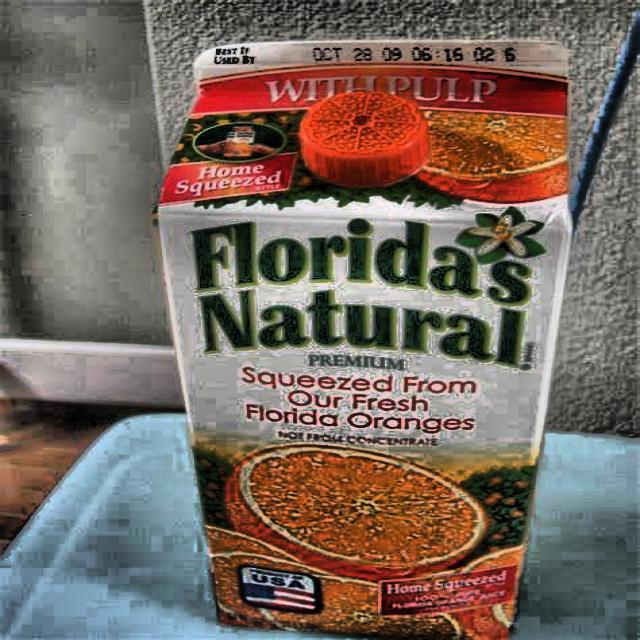cardboard: (149, 37, 576, 638)
